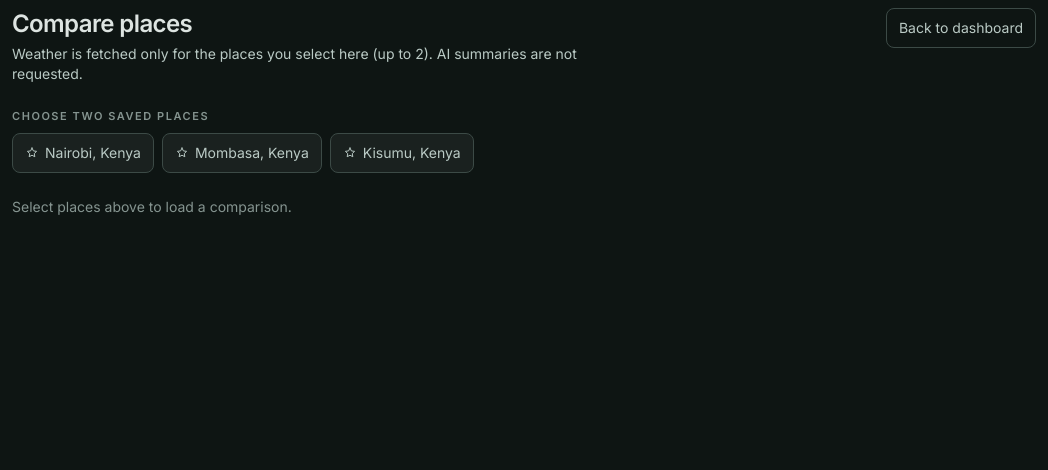
Test: CompareView › does not fetch weather until a saved place is chosen, and caps selection at two
Expected: the heading "Compare places" is shown, [12,9,192,38]
What coordinates should you click on to do the following:
click the button "Nairobi, Kenya"
I would click on:
 (83, 152)
Its box is [12,132,154,172].
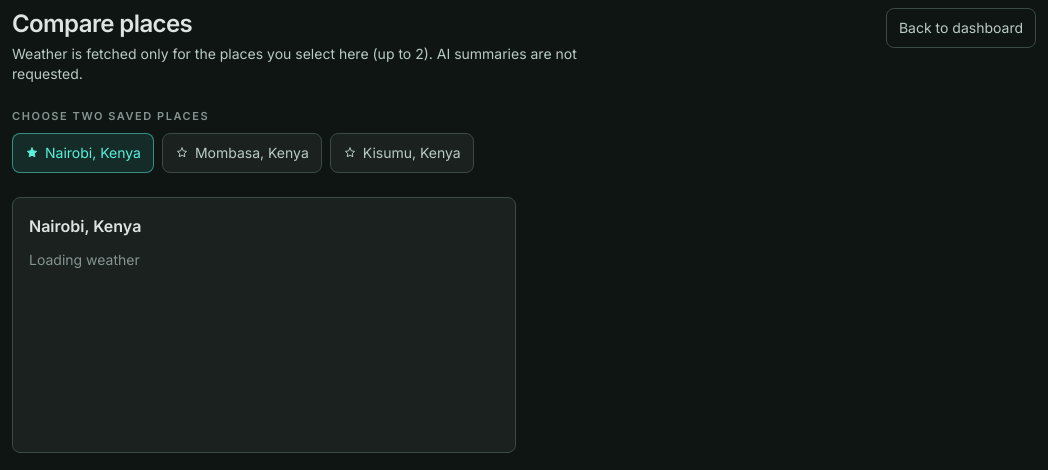
What coordinates should you click on to do the following:
click the button "Kisumu, Kenya"
I would click on:
 (402, 152)
Its box is [330,132,474,172].
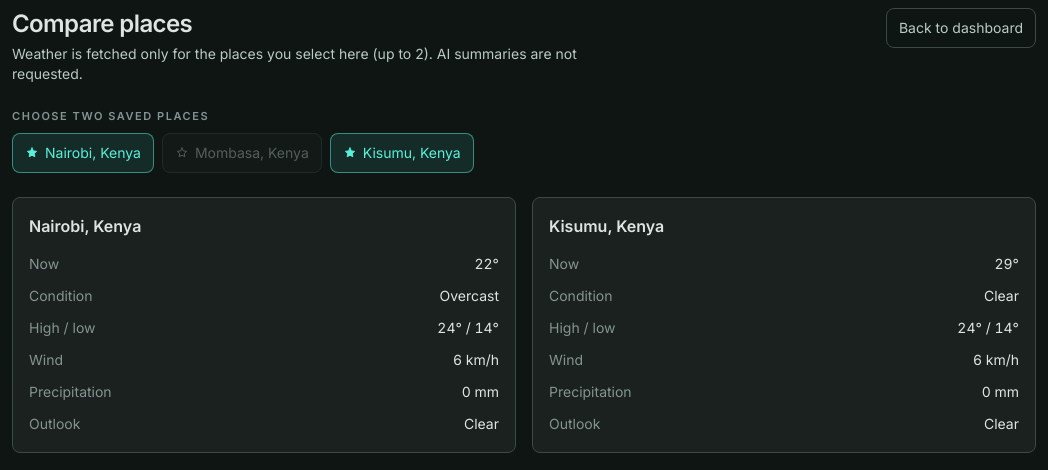
Expected: the button "Mombasa, Kenya" is disabled, [162,132,322,172]
